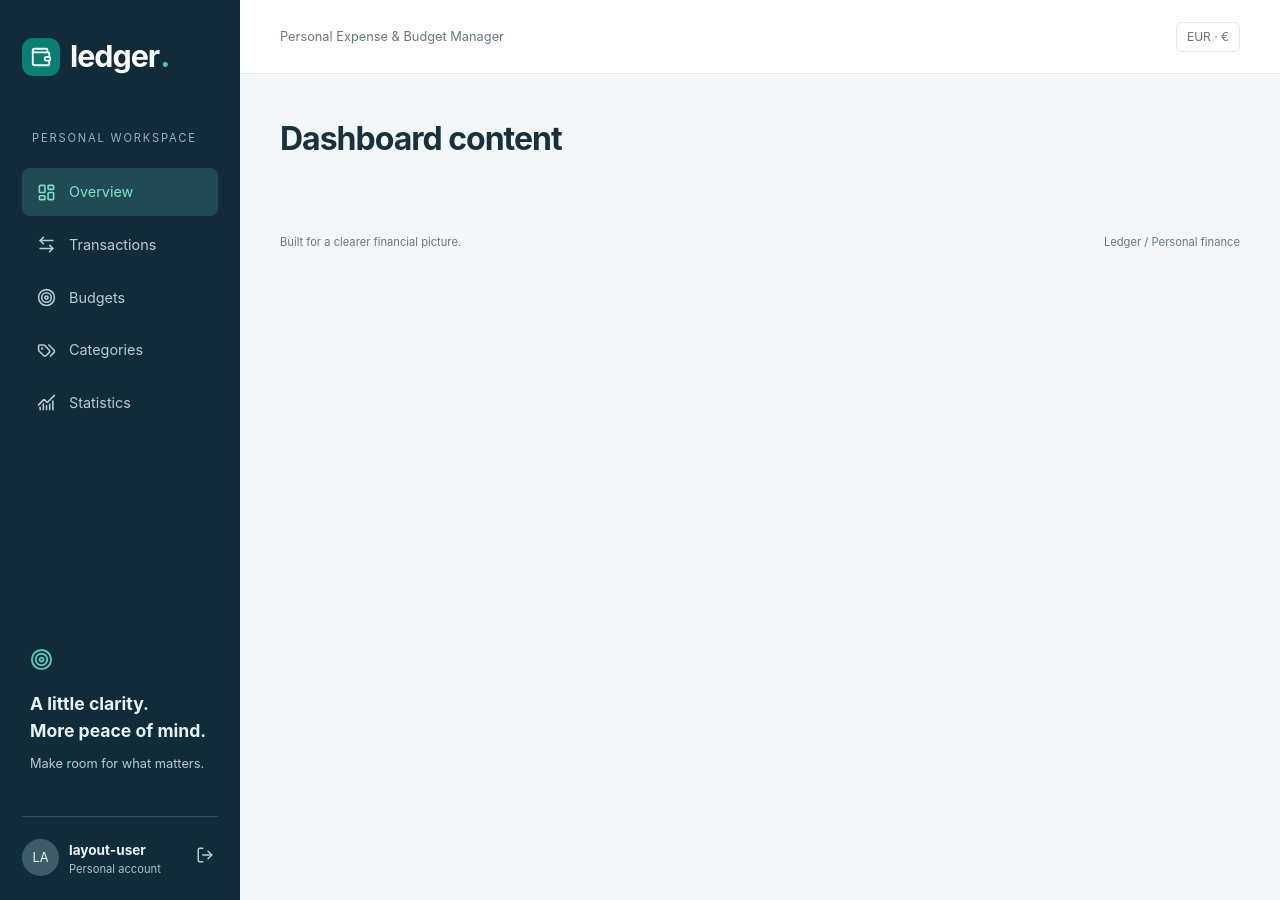
Test: authenticated application layout › keeps the signed-in layout available and shows a logout failure
Check: the heading "Dashboard content" is shown, box [280, 119, 562, 158]
Click the button named "Log out" at (205, 858), box [192, 842, 218, 874]
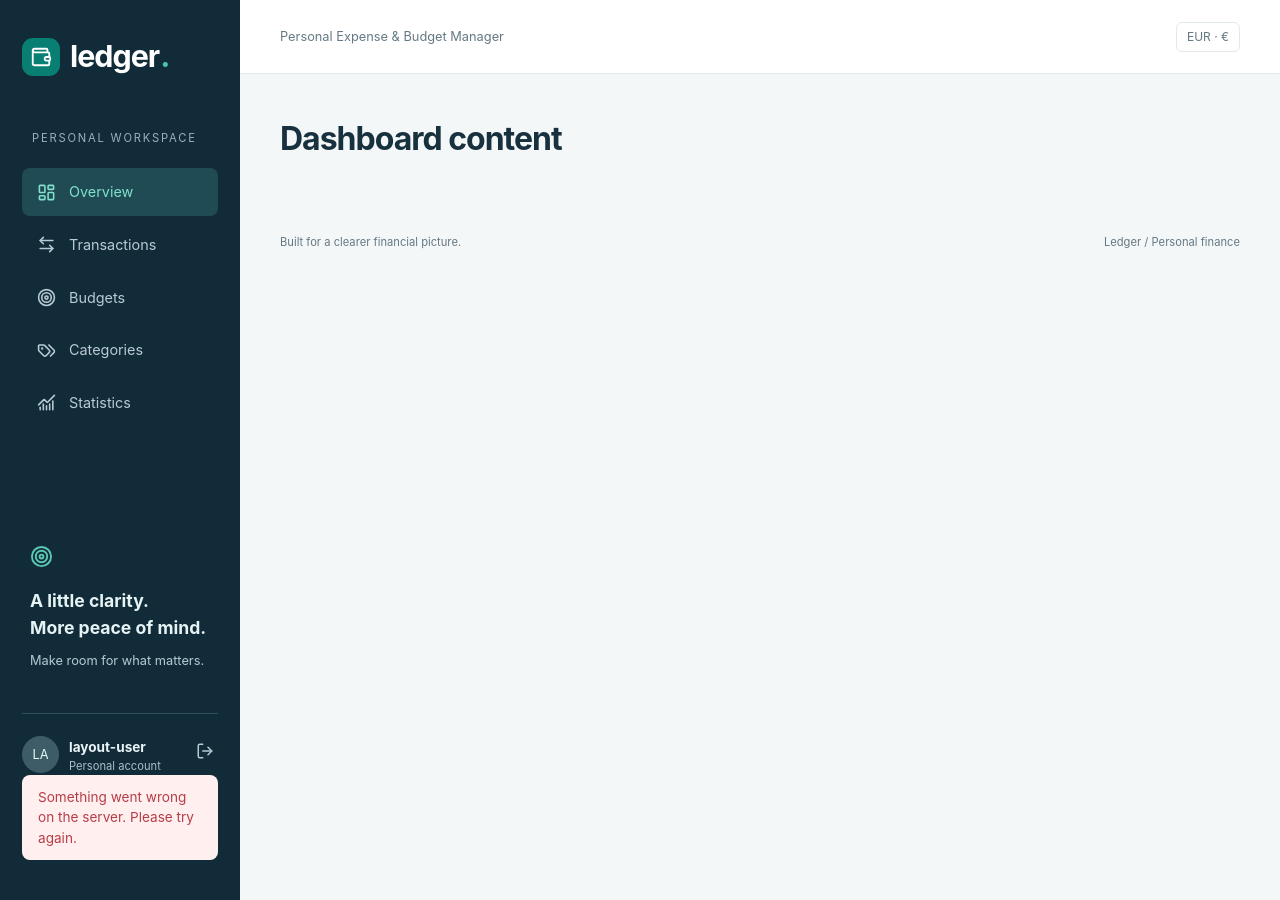
Check: the heading "Dashboard content" is shown, box [280, 119, 562, 158]
Check: the message shows "Something went wrong on the server.", box [38, 789, 194, 846]
